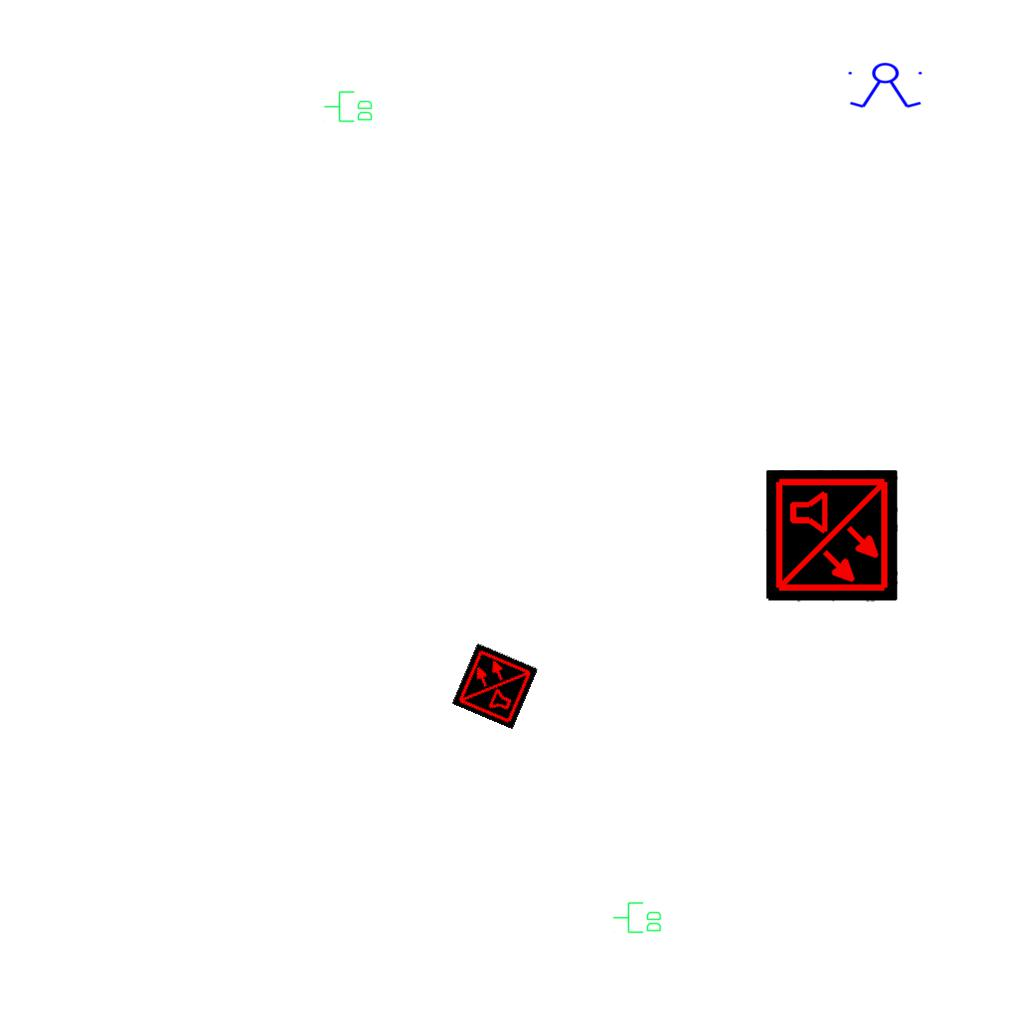Datenanschluss_zweifach: (323, 90, 374, 124), (612, 901, 663, 935)
OKW_Multisensormelder_(Kombination_optischer_Rauch-Kahlenmonoxid_Waerme-Melder): (766, 470, 898, 602), (451, 642, 539, 730)
Serienschalter: (844, 62, 928, 110)
